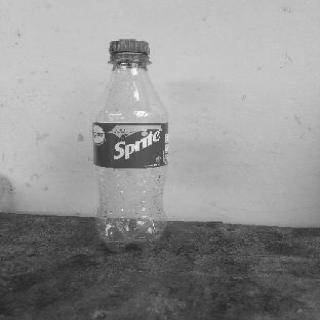plastic_bottles: (96, 37, 172, 252)
